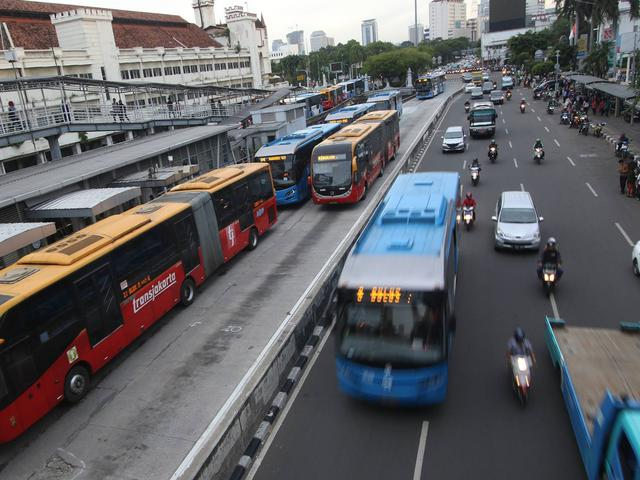car: (5, 164, 272, 453), (334, 169, 462, 410), (310, 112, 399, 207), (259, 123, 338, 199), (494, 191, 542, 253), (367, 89, 404, 123), (471, 101, 496, 141), (416, 71, 446, 99), (442, 125, 465, 154), (489, 91, 504, 106), (470, 87, 484, 100), (472, 72, 483, 88), (502, 76, 514, 90), (465, 83, 476, 94), (462, 72, 472, 84), (483, 82, 491, 95), (481, 72, 490, 80)
motorbike: (501, 330, 535, 409), (538, 236, 562, 297), (461, 192, 475, 232), (468, 157, 482, 187), (532, 137, 545, 167), (614, 134, 629, 160), (487, 138, 499, 163), (579, 114, 590, 136), (561, 106, 569, 125), (571, 109, 579, 128), (520, 98, 528, 114), (547, 100, 555, 114), (505, 89, 513, 102), (464, 99, 471, 113), (492, 82, 497, 90)
